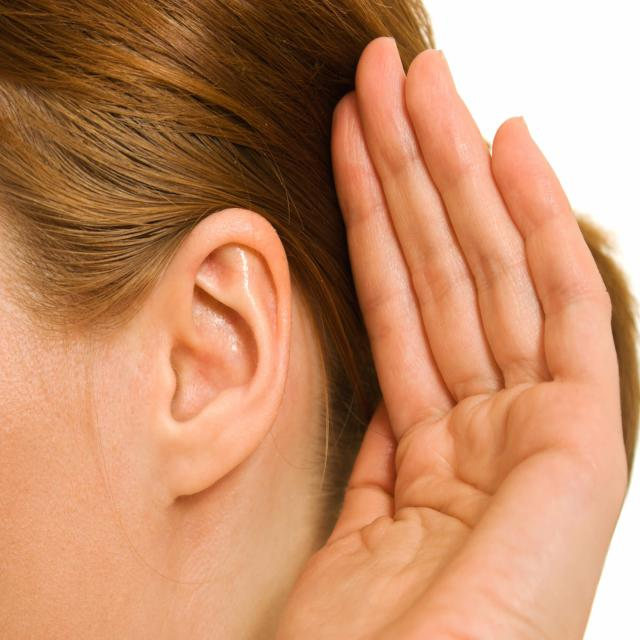earlobe: (170, 408, 238, 501)
wholeear: (171, 209, 292, 500)
